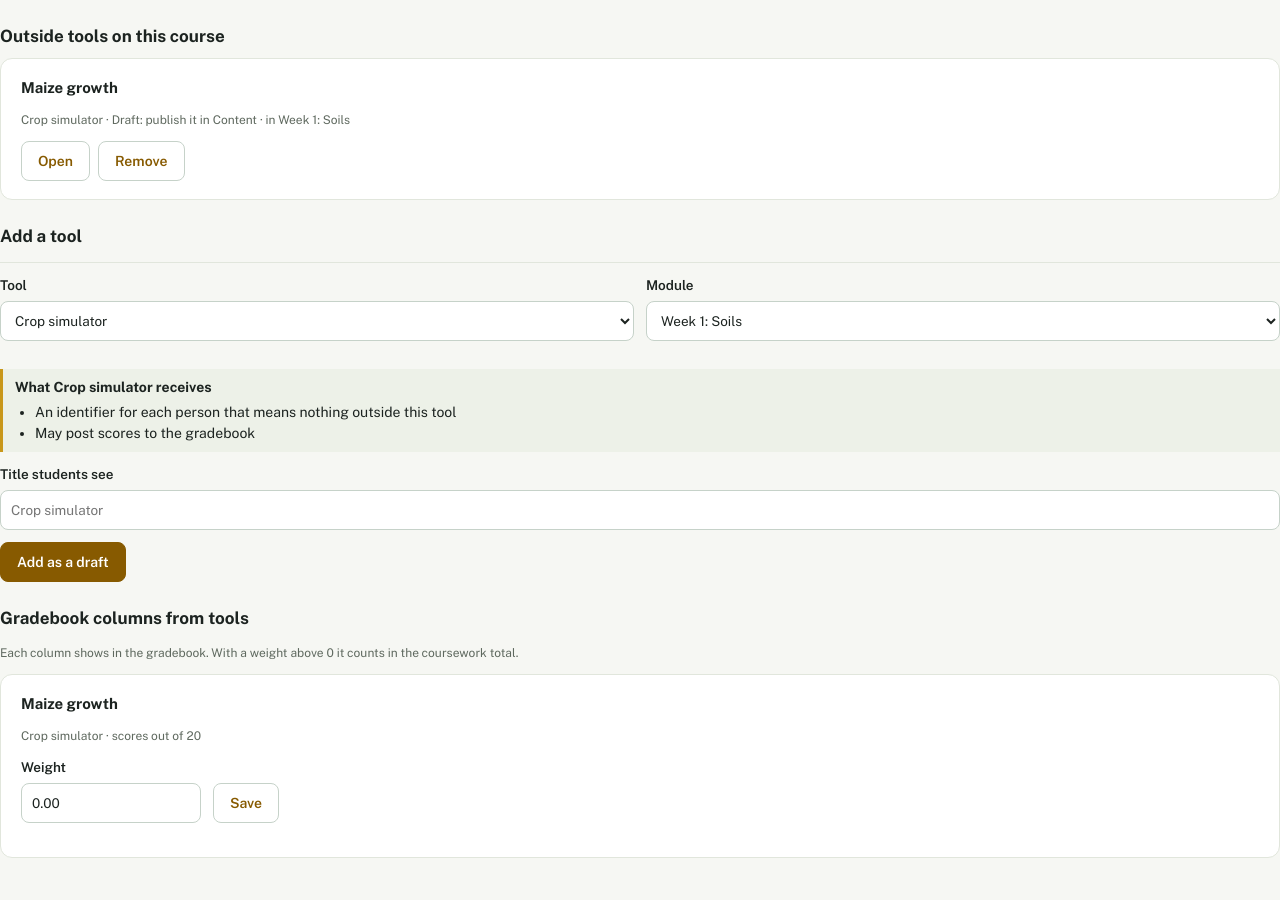
it: teaching staff place tools (item 6.07) › refuses an addition the server will not take
The width and height of the screenshot is (1280, 900).
Click the button "Add as a draft" at (63, 562), box left=0, top=542, right=126, bottom=582
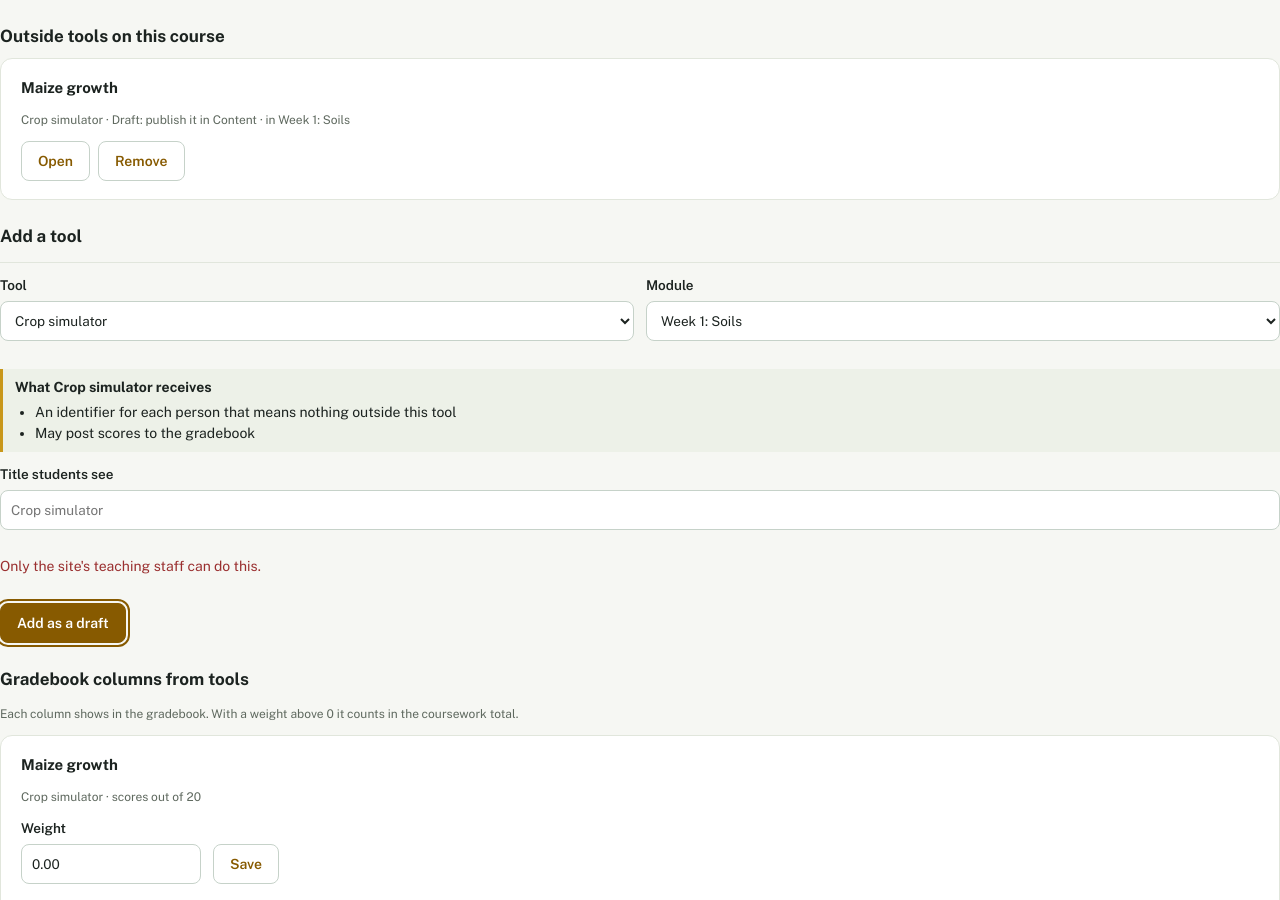
expect the message reads "Only the site's teaching staff can do this.": met, box left=0, top=558, right=261, bottom=574
